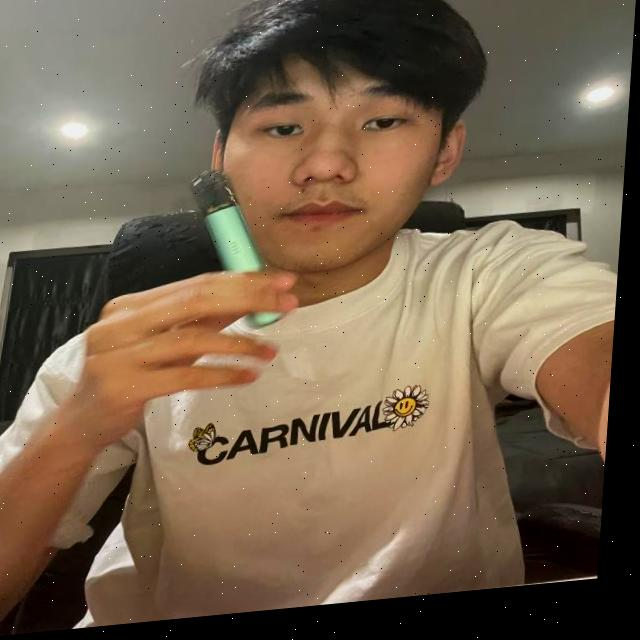vape: (185, 168, 298, 339)
